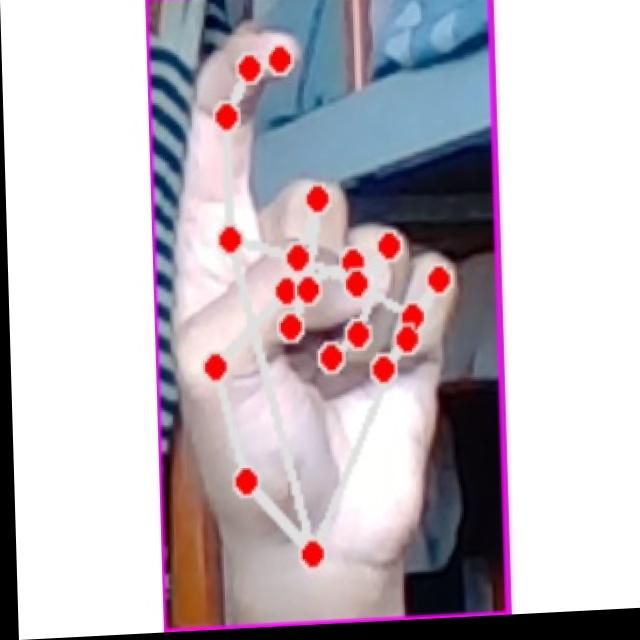X: (159, 12, 481, 589)
